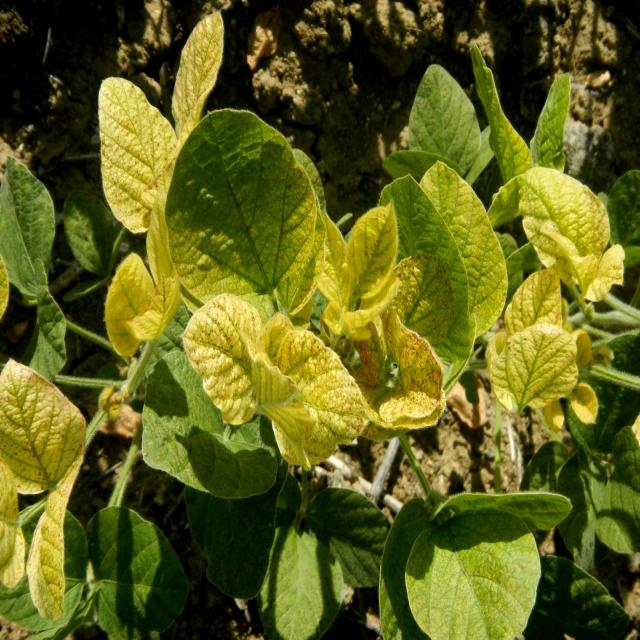Chlorosis: (0, 19, 640, 503)
